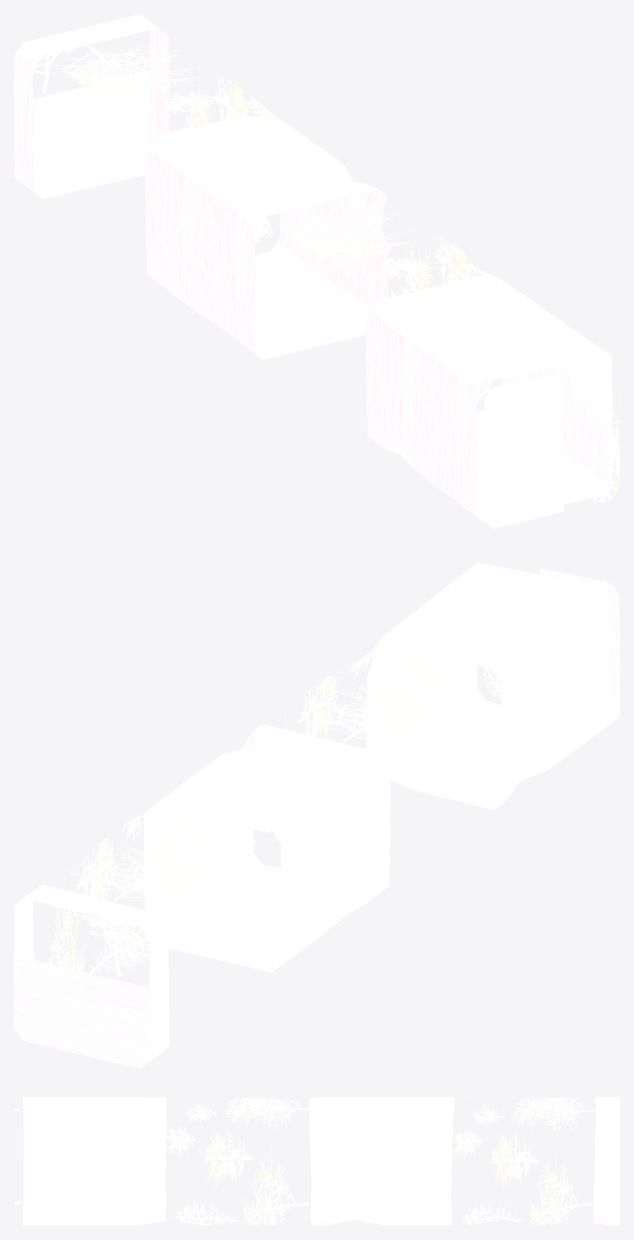
3 views of the same model, one above another, from view 1: azimuth 30°, elevation 25°; view 2: azimuth 150°, elevation 25°; view 3: azimuth 270°, elevation 25° (orthographic). The views are drawn at different scales.
Parts seen in each view (by area): view 1: SM_WoodlandGorse_01_LOD0; view 2: SM_WoodlandGorse_01_LOD0; view 3: SM_WoodlandGorse_01_LOD0.
Part boxes in pixels (left/top/right/bottom): SM_WoodlandGorse_01_LOD0: left=14, top=14, right=619, bottom=528; SM_WoodlandGorse_01_LOD0: left=14, top=562, right=619, bottom=1068; SM_WoodlandGorse_01_LOD0: left=14, top=1097, right=619, bottom=1225.
Bounding box in the file's own units: 1 × 1 × 6.
